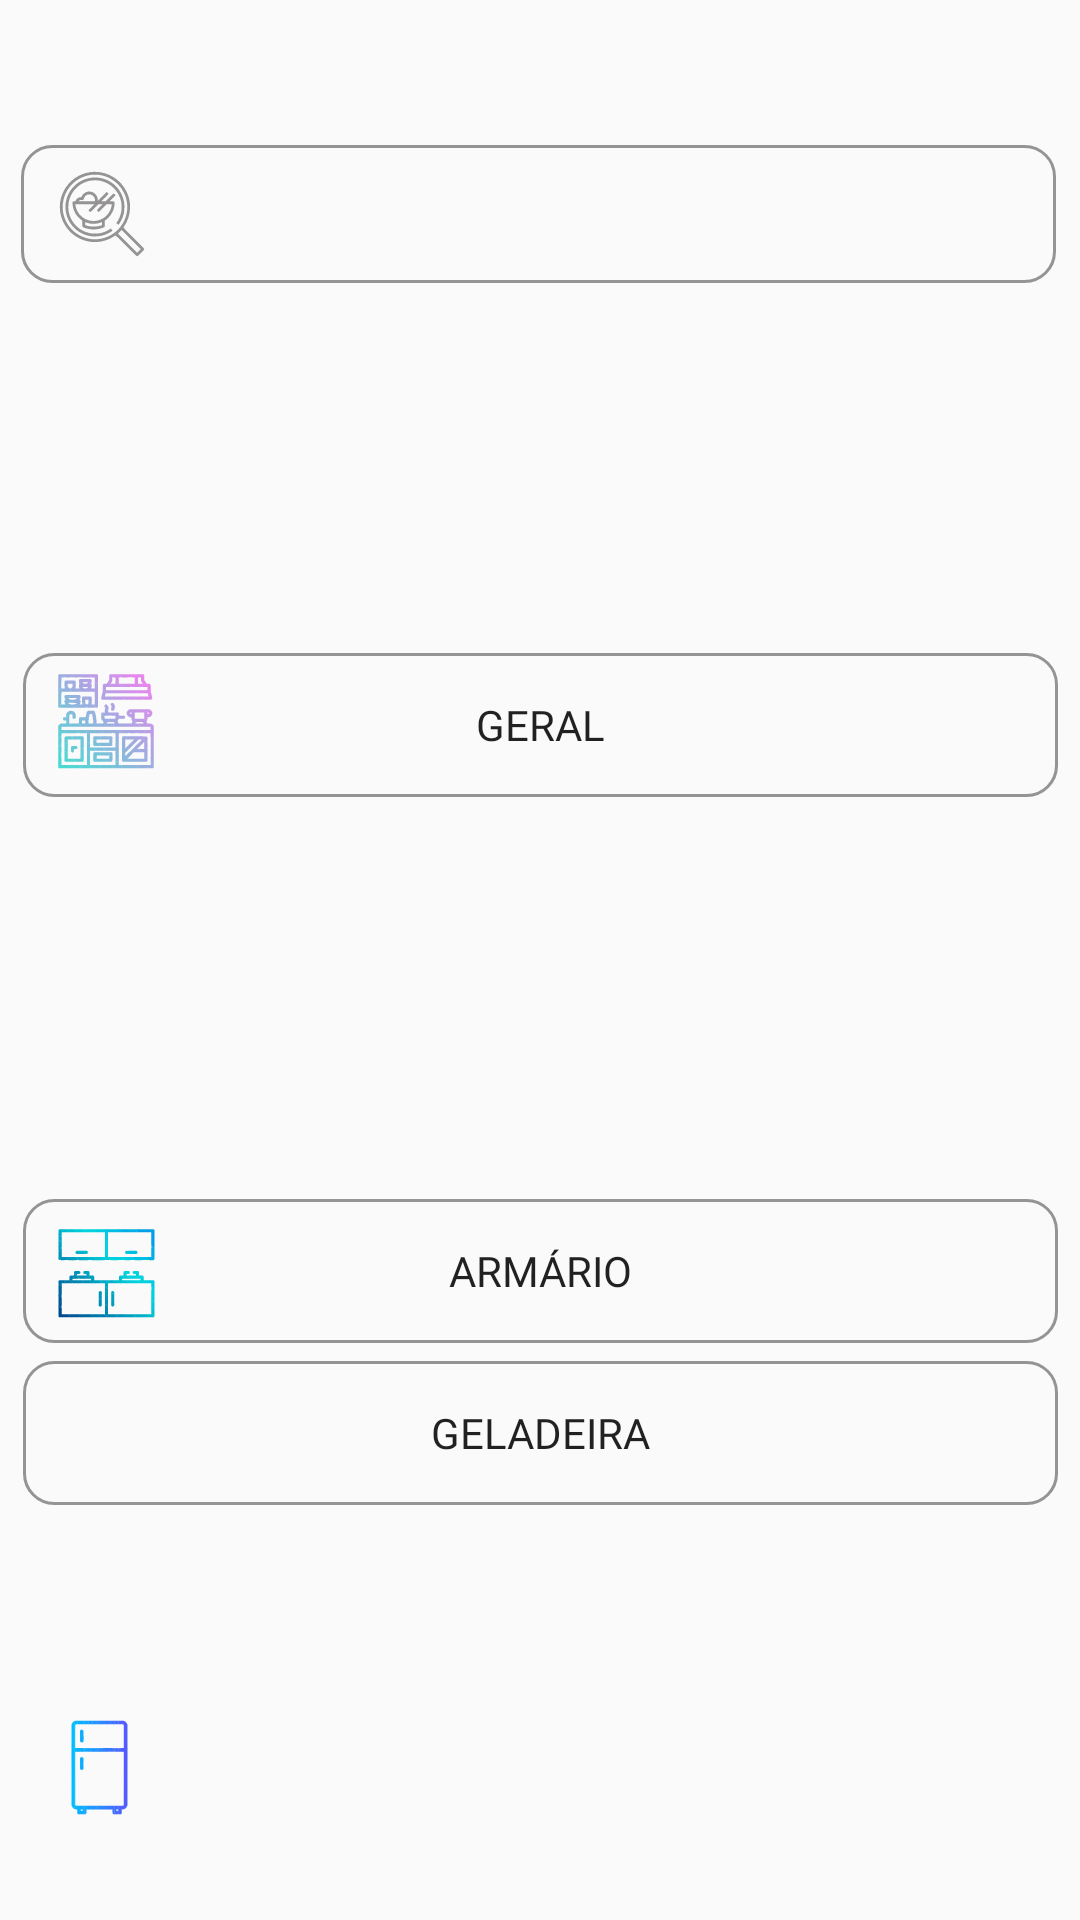

Screen size 1080px x 1920px. Icon name, then its center in pixels as point (x, y):
armario popup: point (106, 1273)
geladeira: point (99, 1767)
